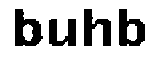b: (12, 7, 45, 52), (118, 7, 147, 51)
h: (82, 4, 115, 53)
u: (48, 16, 79, 50)
